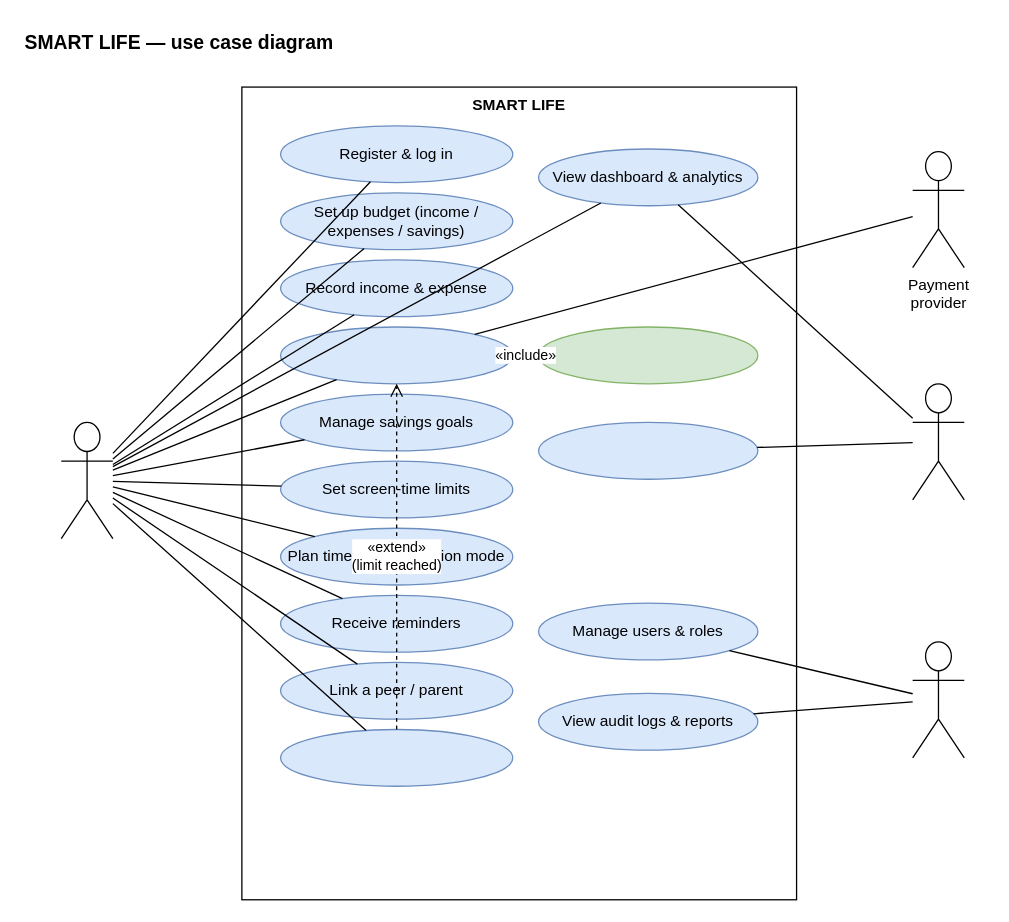
Image size: 1009x922. Some labels were removed from this diagram. Here are the shapes that lost their labels. From the top down, the centre of each, then its label:
the point at 396,355: Make a payment
the point at 647,355: Check spending limit
the point at 647,450: Review & decide requests
the point at 937,441: Approver (peer / parent)
the point at 86,480: Student
the point at 937,699: Admin
the point at 396,757: Request approval
